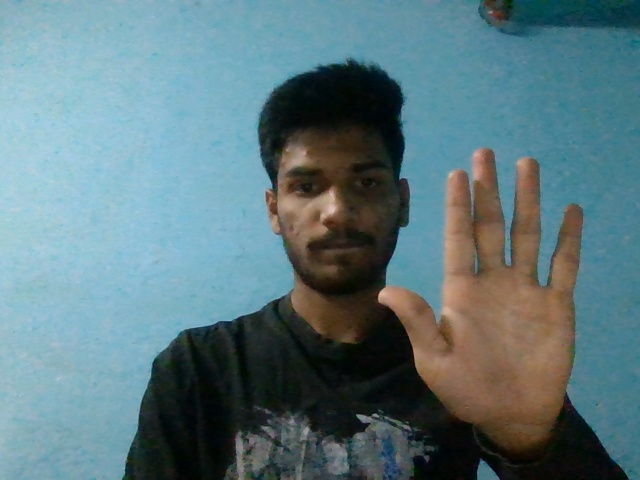Hello: (376, 147, 585, 425)
